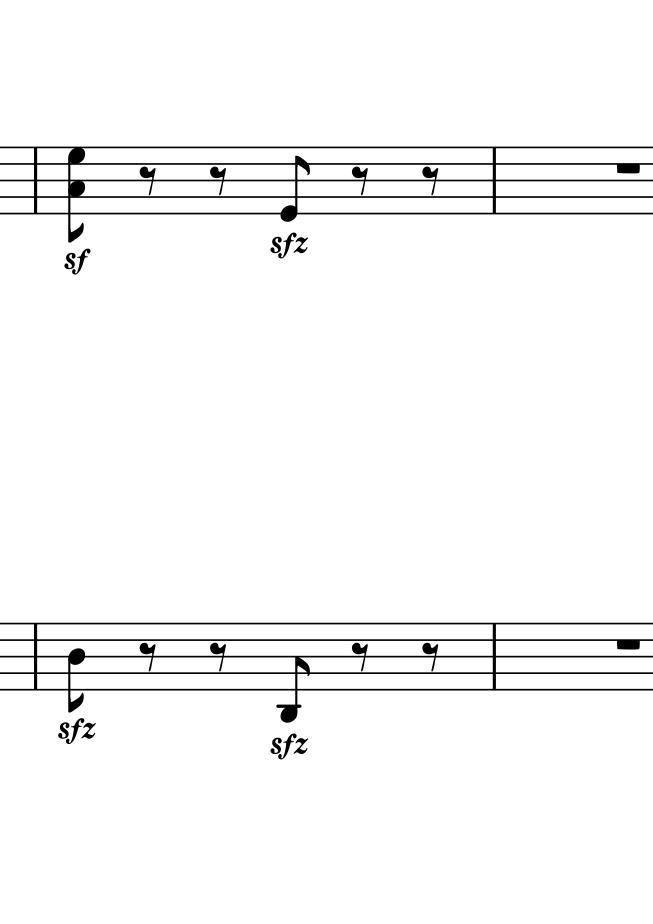8_-3: (277, 620, 311, 724)
8_0: (278, 145, 311, 223)
8_4: (66, 617, 90, 712)
Rests1: (610, 160, 646, 178), (611, 634, 644, 652)
Rests8: (347, 640, 373, 674), (348, 165, 372, 198), (208, 164, 230, 199), (419, 640, 443, 672), (420, 165, 442, 197), (208, 640, 229, 672), (138, 165, 158, 197), (137, 642, 158, 672)
Single_barline: (28, 147, 43, 214), (28, 622, 42, 690), (487, 623, 501, 689), (487, 146, 501, 212)
sf: (51, 714, 83, 747), (63, 246, 91, 277)
sfz: (267, 731, 310, 761), (269, 231, 312, 261)
